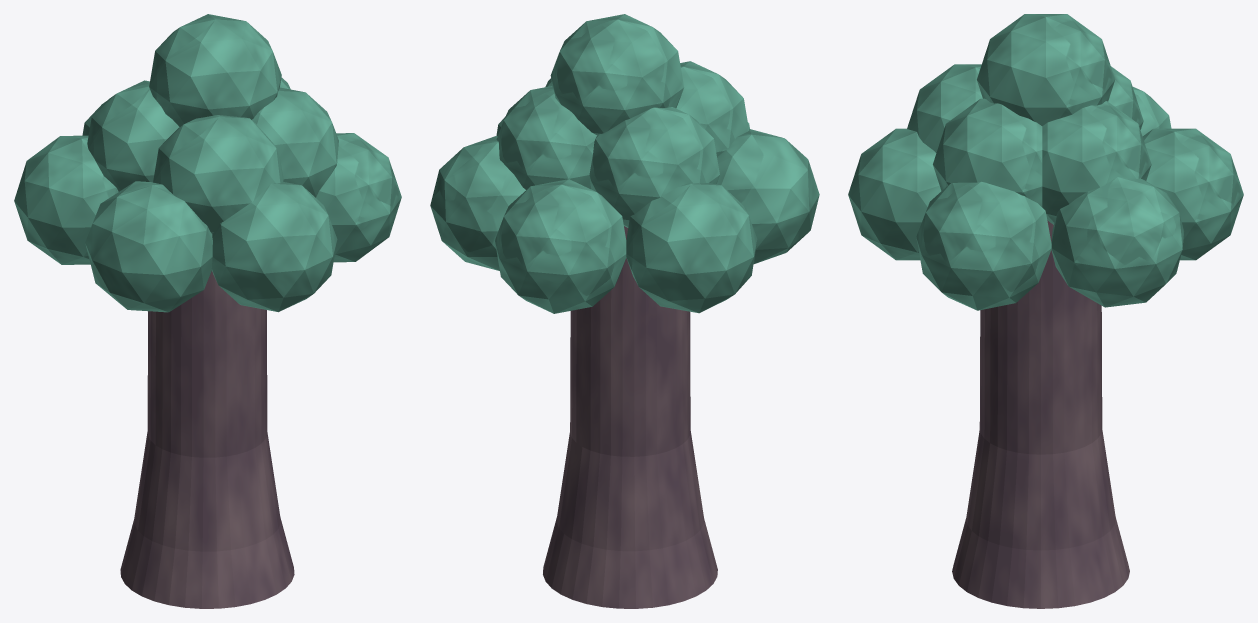
Rendered from tree1.gltf.
3 renders of one model, left to right at view 1: azimuth 30°, elevation 25°; view 2: azimuth 150°, elevation 25°; view 3: azimuth 270°, elevation 25°, orthographic. The views are drawn at different scales.
Visible parts, largest first — view 1: Leaves.002, trunk.004; view 2: Leaves.002, trunk.004; view 3: Leaves.002, trunk.004.
Boxes of the visible parts, left/top/right/bottom form: Leaves.002: left=14, top=14, right=401, bottom=312; trunk.004: left=120, top=271, right=294, bottom=608; Leaves.002: left=430, top=14, right=819, bottom=313; trunk.004: left=543, top=226, right=717, bottom=608; Leaves.002: left=848, top=14, right=1243, bottom=310; trunk.004: left=952, top=220, right=1129, bottom=608.
Size of the model in its own units: 6.03 by 10.25 by 6.57.
Materials: 2 (2 with a texture image).
